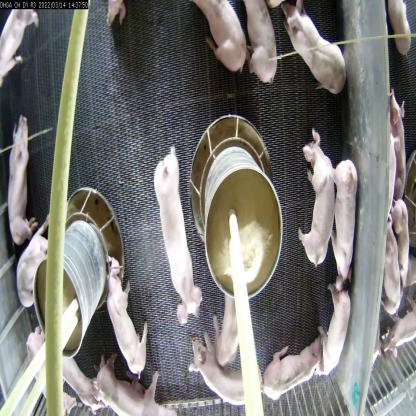Pig: (145, 146, 203, 317), (104, 235, 153, 378), (284, 0, 354, 91), (191, 324, 256, 415), (259, 327, 324, 409), (324, 142, 362, 279), (296, 134, 334, 264), (198, 0, 251, 82), (44, 344, 105, 415), (93, 366, 179, 416), (24, 318, 66, 415), (312, 280, 352, 371), (240, 0, 280, 90), (205, 284, 245, 371), (12, 121, 40, 239), (10, 214, 54, 288)
